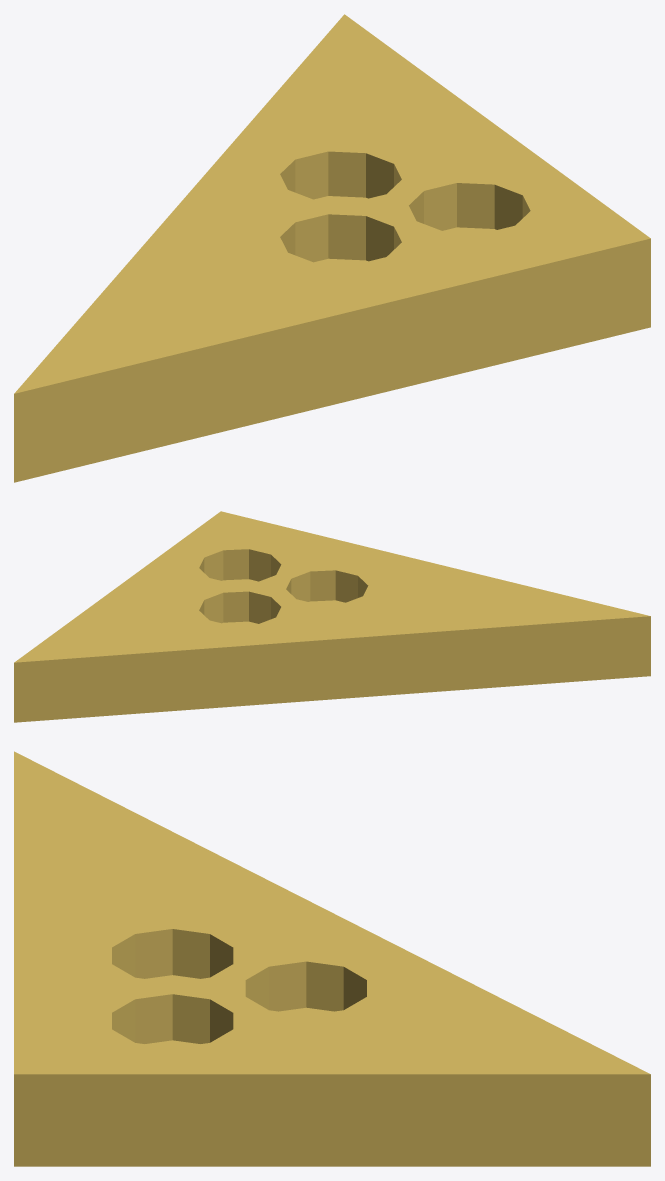
File: cheese_slice.glb
The picture shows the model from 3 angles, top to bottom: view 1: azimuth 30°, elevation 25°; view 2: azimuth 150°, elevation 25°; view 3: azimuth 270°, elevation 25°; orthographic projection. The views are drawn at different scales.
Visible parts, largest first — view 1: cheese_slice; view 2: cheese_slice; view 3: cheese_slice.
Part boxes in pixels (x1,y1,x2,y2): cheese_slice: (14, 14, 650, 482); cheese_slice: (14, 511, 650, 722); cheese_slice: (14, 751, 650, 1166).
Bounding box in the file's own units: 0.06 × 0.008 × 0.05.
